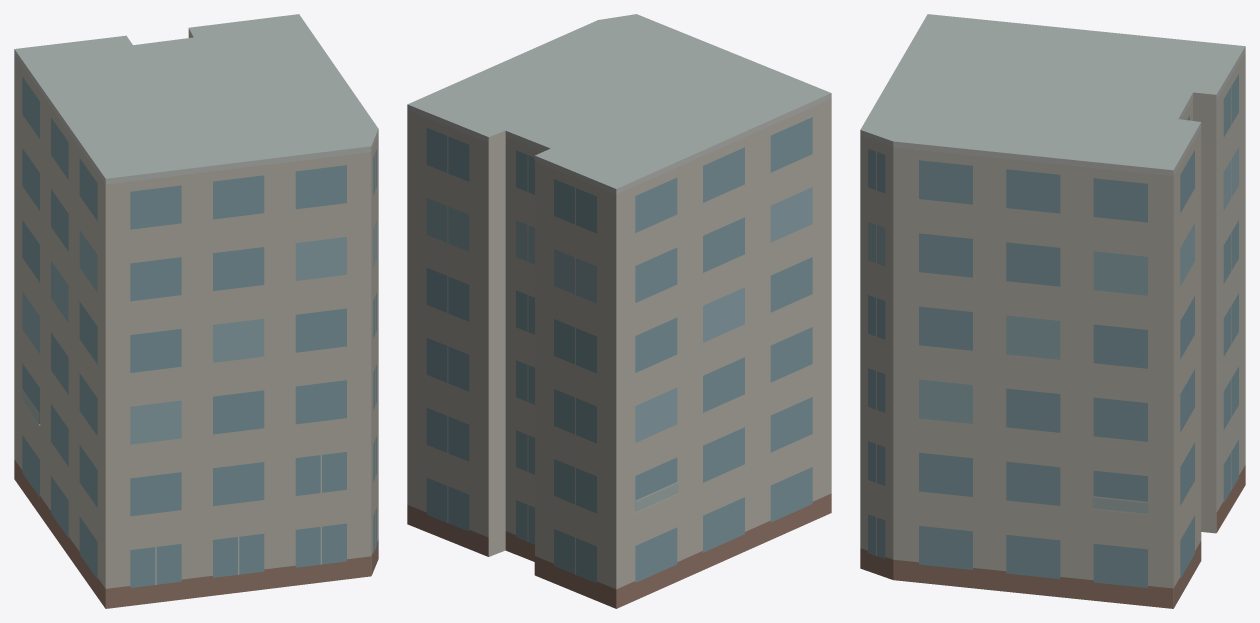
The model's file is survey-upis-33017158.glb.
3 views of the same model, side by side, from view 1: azimuth 30°, elevation 25°; view 2: azimuth 150°, elevation 25°; view 3: azimuth 270°, elevation 25° (orthographic). The views are drawn at different scales.
Visible parts, largest first — view 1: survey-upis-33017158.tmp; view 2: survey-upis-33017158.tmp; view 3: survey-upis-33017158.tmp.
Boxes of the visible parts, box(x1,y1,x2,y2) form: survey-upis-33017158.tmp: box(14, 14, 378, 608); survey-upis-33017158.tmp: box(407, 14, 831, 608); survey-upis-33017158.tmp: box(860, 14, 1245, 608).
Size of the model in its own units: 13.99 by 18.3 by 14.58.
